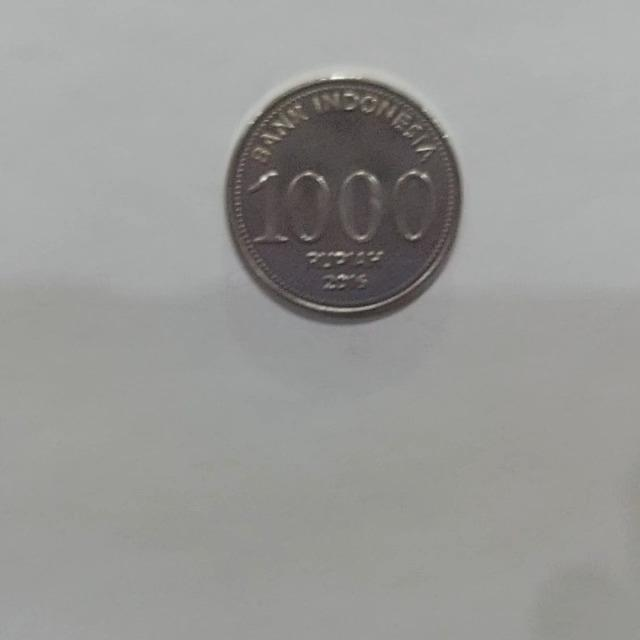Rp100: (222, 70, 463, 320)
